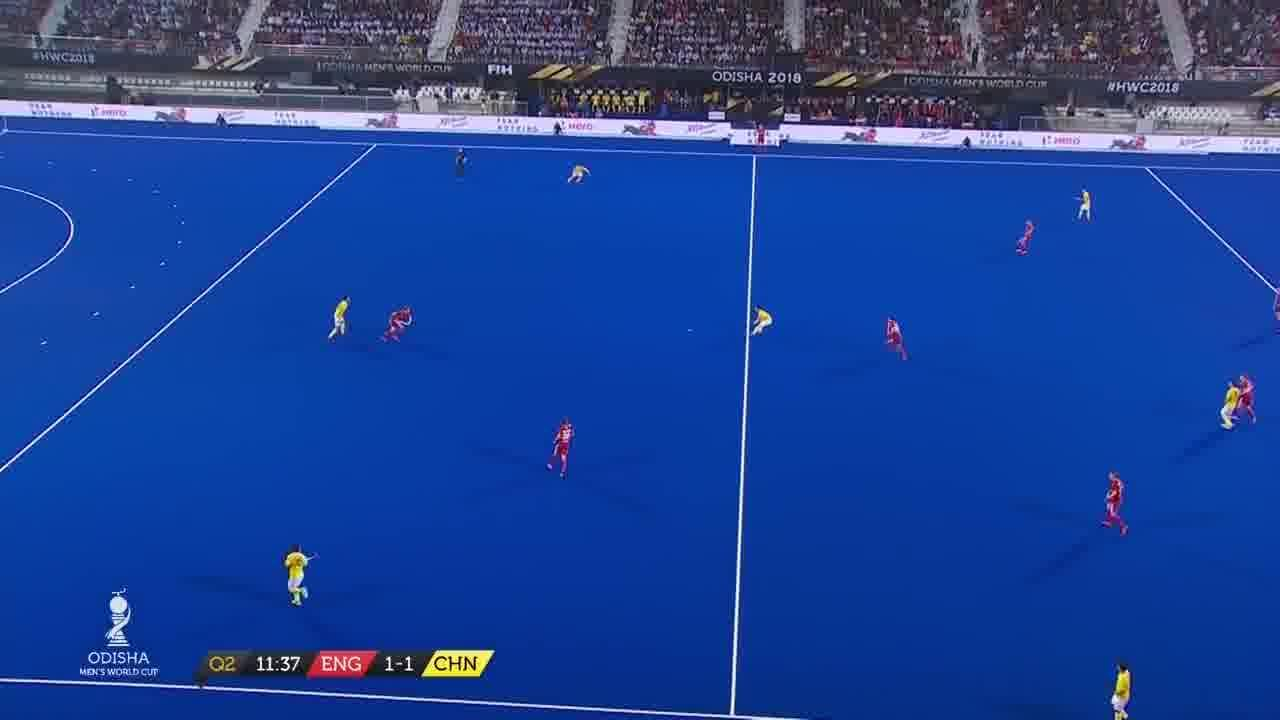ball: (682, 324, 705, 342)
